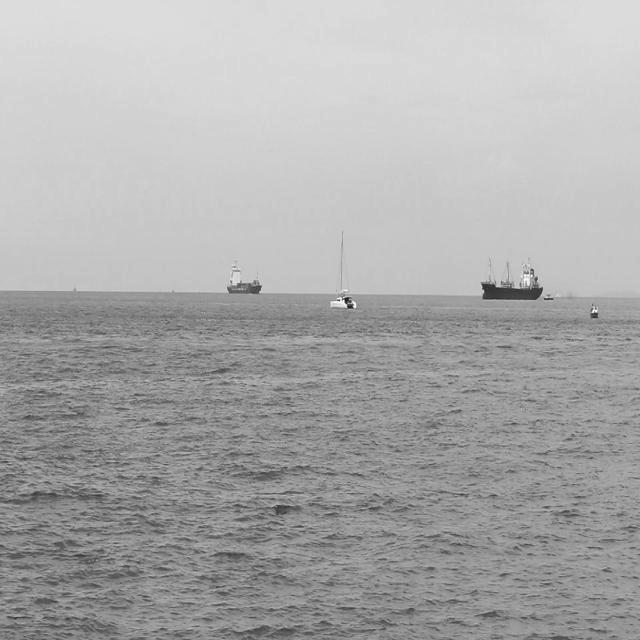ship: (479, 254, 544, 301), (329, 228, 358, 310), (225, 257, 262, 294), (588, 301, 600, 319), (542, 293, 554, 302)
